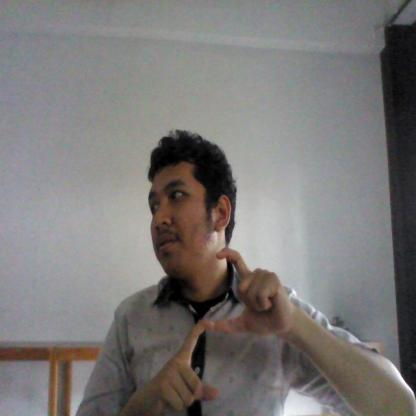S: (156, 242, 293, 416)
